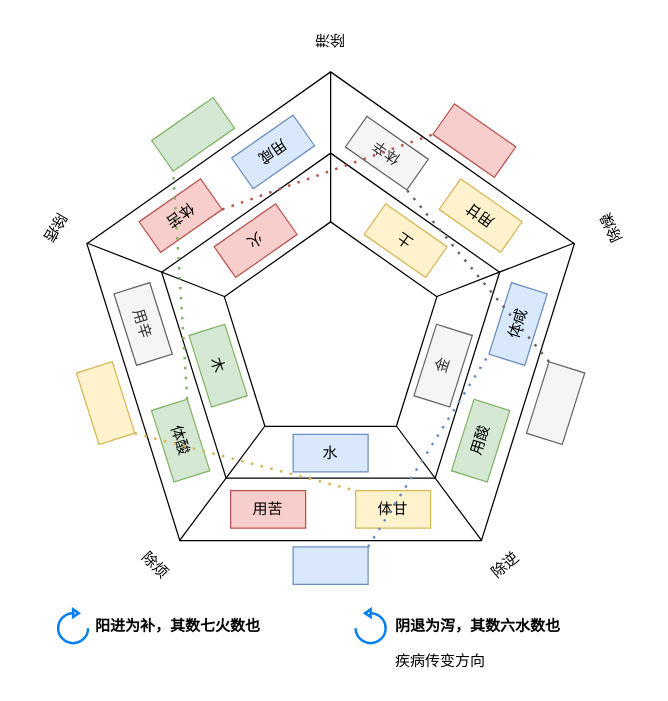
Image size: 668x701. Some labels were removed from this diagram. The centre of each missing label's shape, as x and y in pixels:
化咸: the point at 330,565
化甘: the point at 105,402
化苦: the point at 473,140
化辛: the point at 555,402
化酸: the point at 192,134
